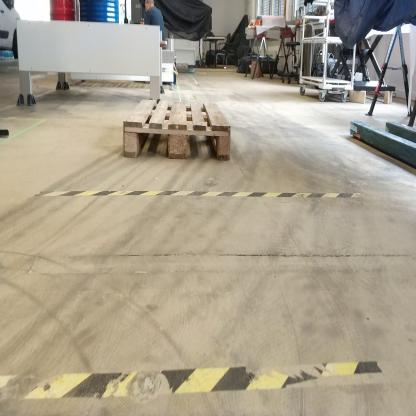BoxFace: (120, 93, 238, 167)
